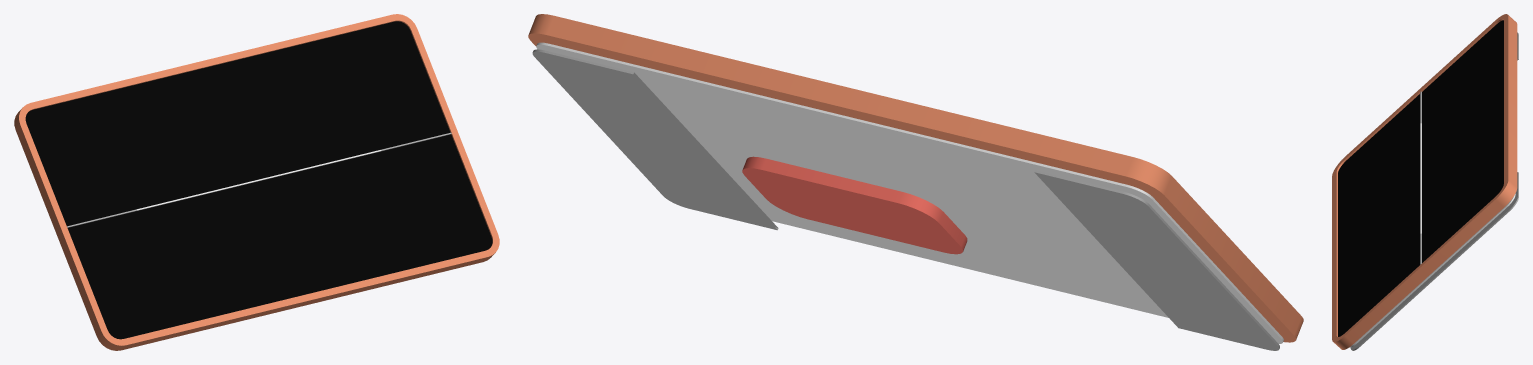
File: display.glb
The picture shows the model from 3 angles, left to right: view 1: azimuth 30°, elevation 25°; view 2: azimuth 150°, elevation 25°; view 3: azimuth 270°, elevation 25°; orthographic projection. The views are drawn at different scales.
Visible parts, largest first — view 1: Cube.130, Cube.135; view 2: Cube.267, Cube.266, Cube.130, button; view 3: Cube.130, Cube.266, Cube.267, Cube.135.
Part boxes in pixels (x1=…): Cube.130: x1=14, y1=14, x2=499, y2=350; Cube.135: x1=67, y1=132, x2=451, y2=227; Cube.267: x1=536, y1=42, x2=1283, y2=343; Cube.266: x1=532, y1=49, x2=1279, y2=350; Cube.130: x1=528, y1=14, x2=1303, y2=342; button: x1=742, y1=156, x2=967, y2=254; Cube.130: x1=1332, y1=14, x2=1517, y2=349; Cube.266: x1=1350, y1=32, x2=1518, y2=350; Cube.267: x1=1349, y1=194, x2=1515, y2=347; Cube.135: x1=1420, y1=91, x2=1421, y2=264.
Size of what is drawn, in the model's own units: 3.4 by 1.5 by 1.5.
